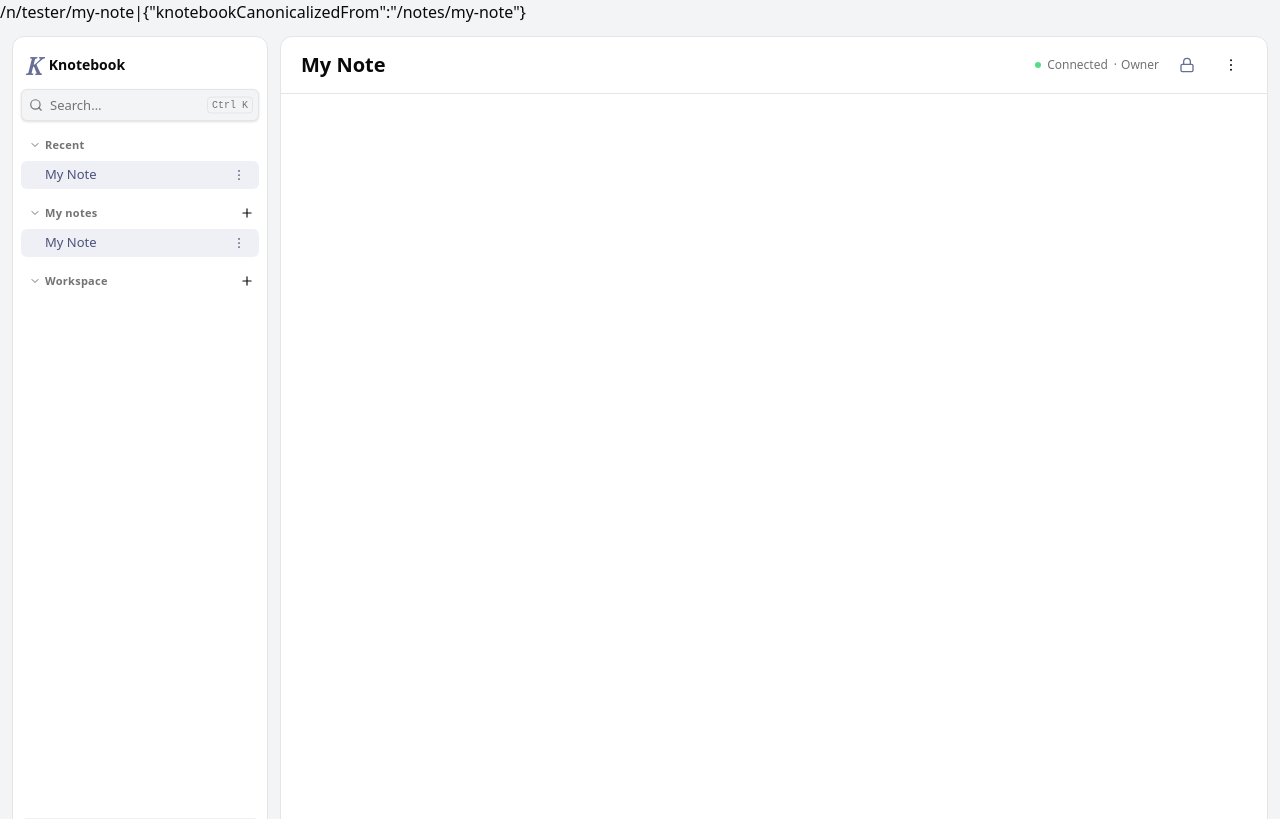
Test case: NotePage × 側欄筆記列 ⋮ › 側欄 ⋮ 在開著的那篇按 AI 修改紀錄：開同一個對話框、不導頁、不重掛
Check: the text with test id "location" reads "/n/tester/my-note|{\"knotebookCanonicalizedFrom\":\"/notes/my-note\"}", box top-left (0, 1), bottom-right (526, 23)
Step 1. Press the mouse on the 2nd button named "Note actions for My Note" → point(239, 243), box top-left (227, 231), bottom-right (251, 255)
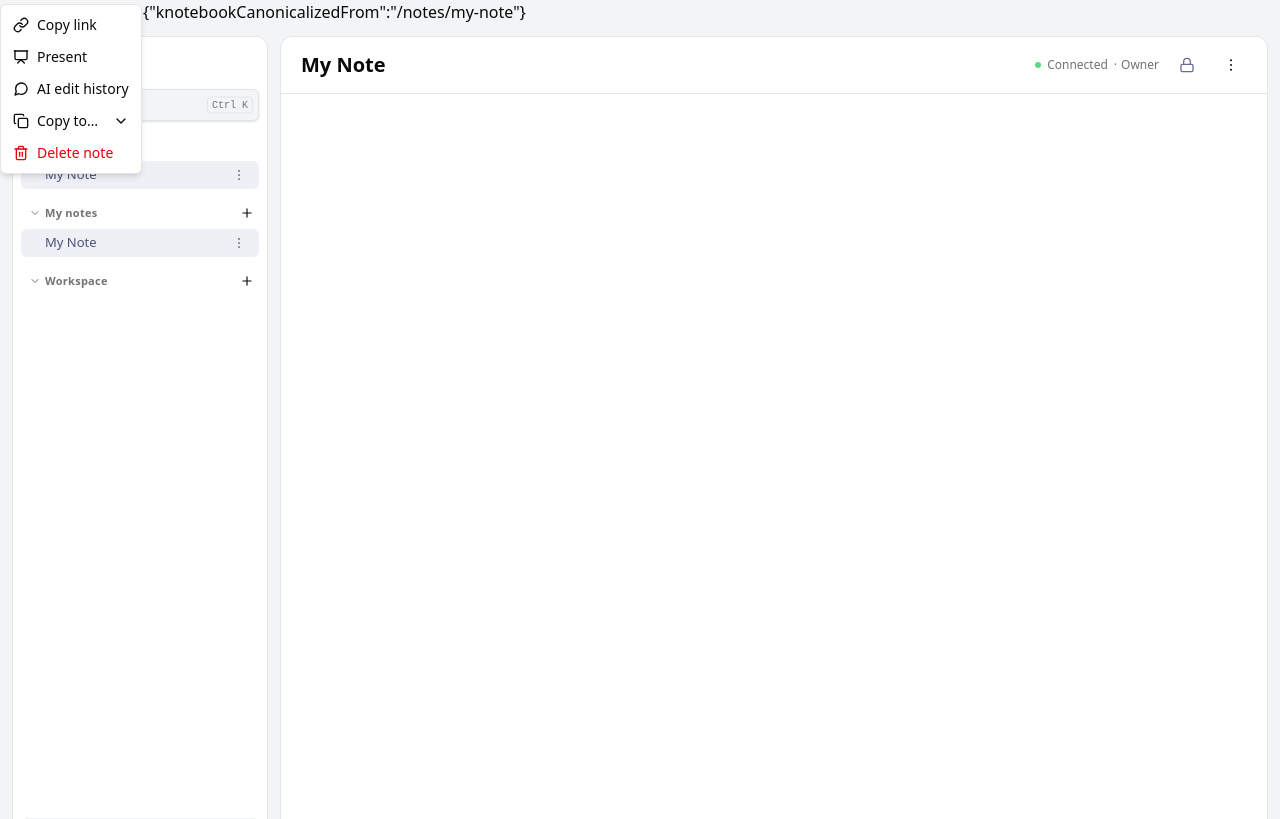
Step 2. Click the menu item "AI edit history" → point(71, 88), box top-left (13, 79), bottom-right (129, 98)
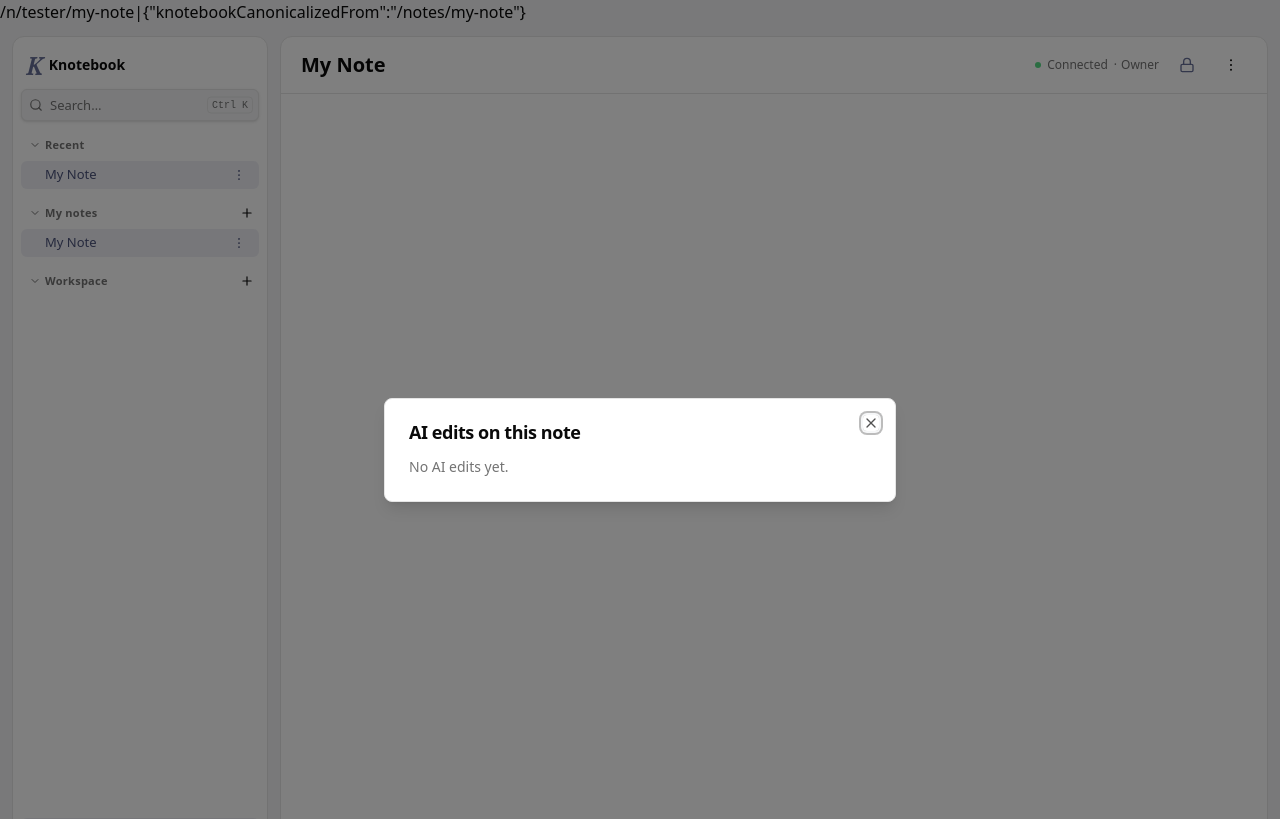
Check: the text with test id "location" reads "/n/tester/my-note|{\"knotebookCanonicalizedFrom\":\"/notes/my-note\"}", box top-left (0, 1), bottom-right (526, 23)
Check: the dialog "AI edits on this note" is shown, box top-left (384, 398), bottom-right (896, 502)
